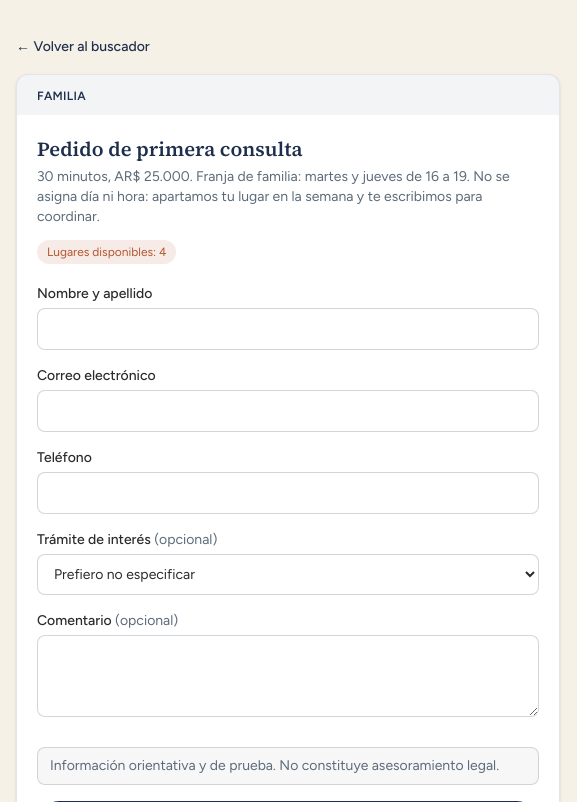
Test case: Pantalla de pedido › con todos los campos válidos, guarda el pedido y resta un lugar sin recargar
Type "Ana Paz" into the field labelled "Nombre y apellido". click: coordinates (288, 329)
box: [37, 308, 539, 350]
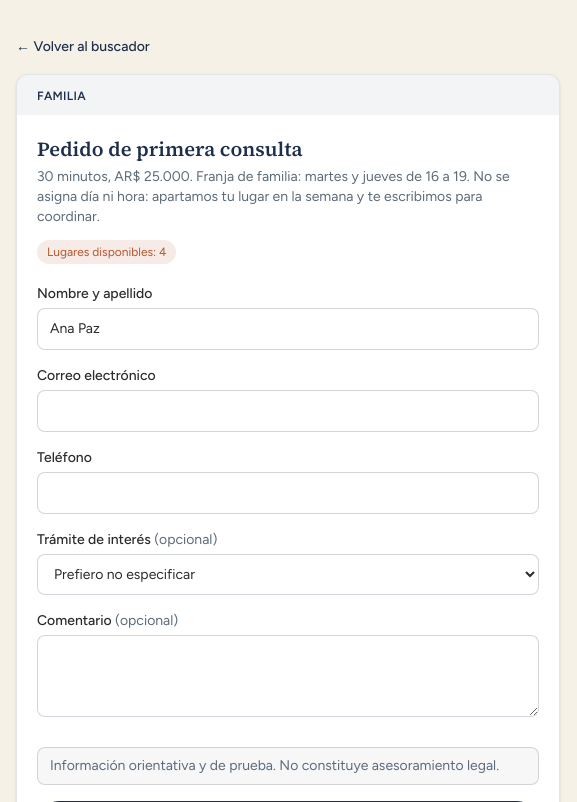
Type "ana@example.com" into the field labelled "Correo electrónico". click: coordinates (288, 411)
box: [37, 390, 539, 432]
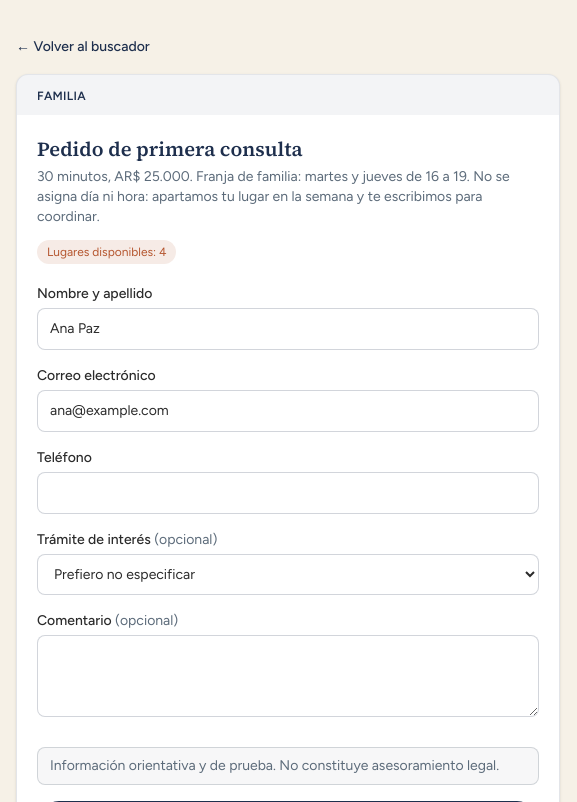
Type "11 4000-1234" into the field labelled "Teléfono". click: coordinates (288, 493)
box: [37, 472, 539, 514]
(page scrolled)
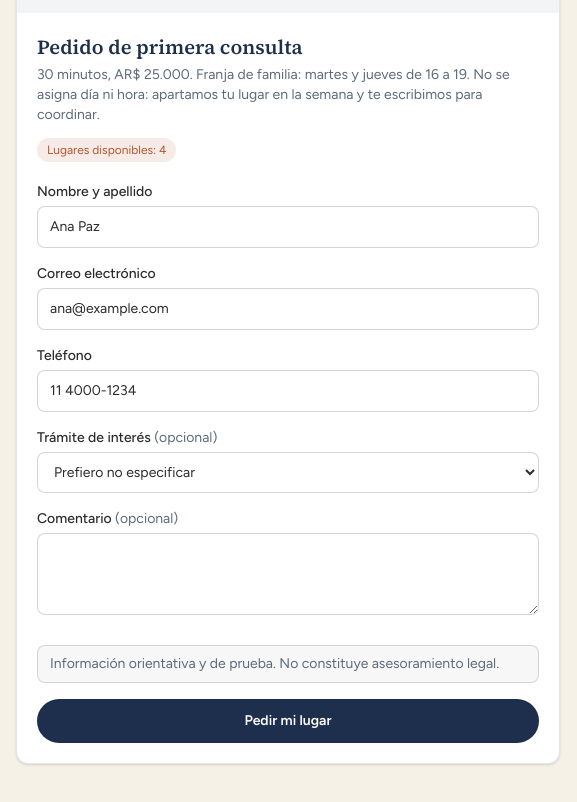
Click the button "Pedir mi lugar". click: coordinates (288, 721)
box: [37, 699, 539, 743]
(page scrolled)
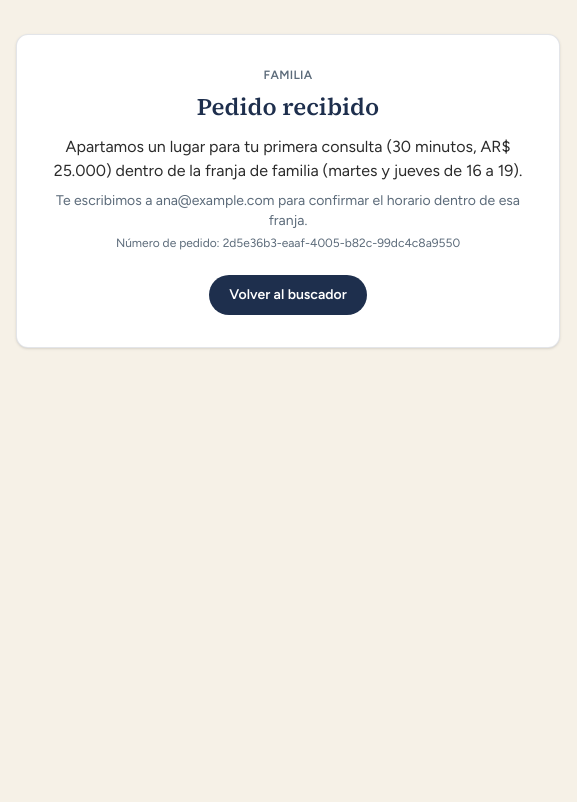
Now the heading "Pedido recibido" is shown, box [197, 90, 379, 123]
